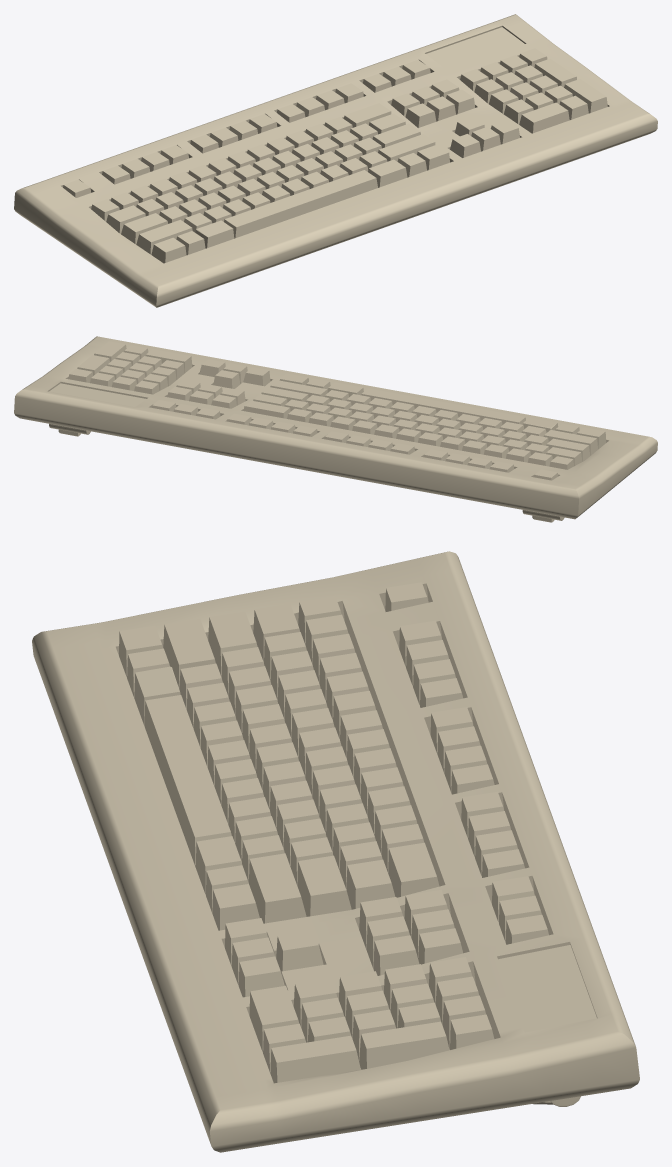
File: computer_keyboard.fbx
3 renders of one model, top to bottom at view 1: azimuth 30°, elevation 25°; view 2: azimuth 150°, elevation 25°; view 3: azimuth 270°, elevation 25°, orthographic. The views are drawn at different scales.
Visible parts, largest first — view 1: polySurface18; view 2: polySurface18; view 3: polySurface18.
Boxes of the visible parts, bbox=[...] form: polySurface18: bbox=[14, 14, 657, 307]; polySurface18: bbox=[14, 336, 657, 522]; polySurface18: bbox=[32, 551, 639, 1152].
Size of the model in its own units: 10.64 by 1.05 by 5.12.
